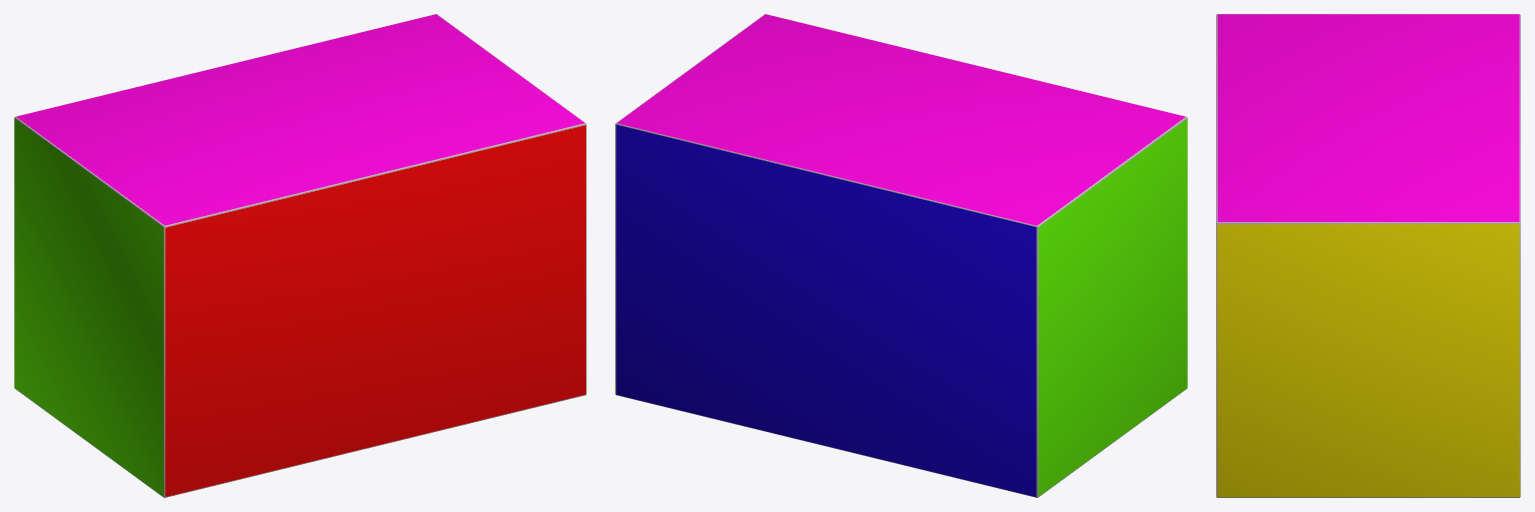
The model's file is cartons.fbx.
The picture shows the model from 3 angles, left to right: view 1: azimuth 30°, elevation 25°; view 2: azimuth 150°, elevation 25°; view 3: azimuth 270°, elevation 25°; orthographic projection.
Parts seen in each view (by area): view 1: Cube; view 2: Cube; view 3: Cube.
Part boxes in pixels (bbox=[...]): Cube: bbox=[14, 14, 586, 497]; Cube: bbox=[615, 14, 1187, 497]; Cube: bbox=[1216, 14, 1520, 497].
Size of the model in its own units: 484 by 298 by 298.
1 material, 1 textured.
